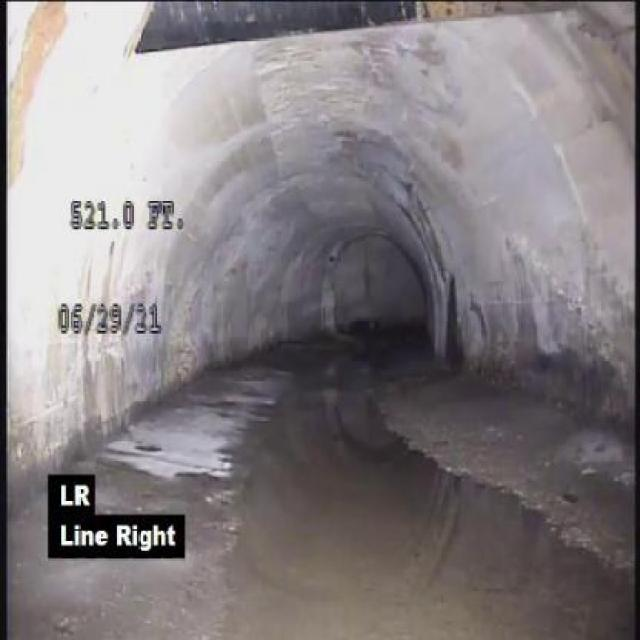Utility intrusion: (126, 0, 603, 60)
